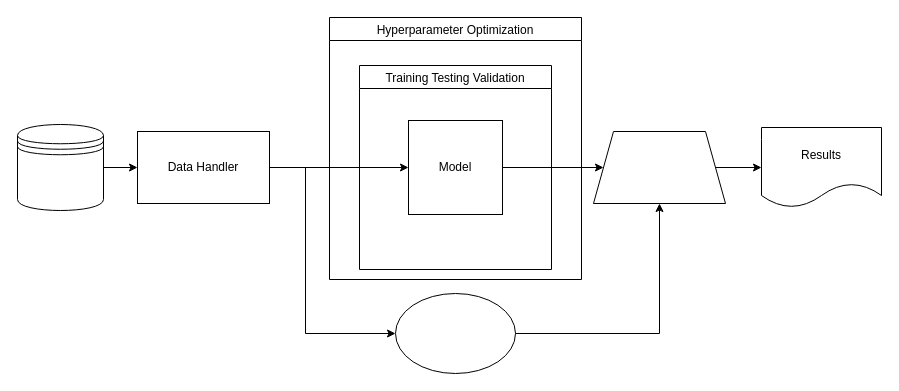
The diagram is 899 pixels wide and 391 high, and some of its shapes have lost their labels. Each missing label, with the centre of its shape:
"Baseline model" goes at point (455, 333).
"Data" goes at point (60, 167).
"Integration" goes at point (659, 167).
